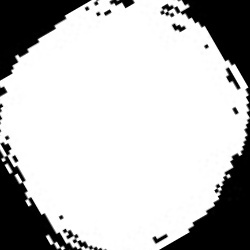spot: (1, 2, 248, 250)
